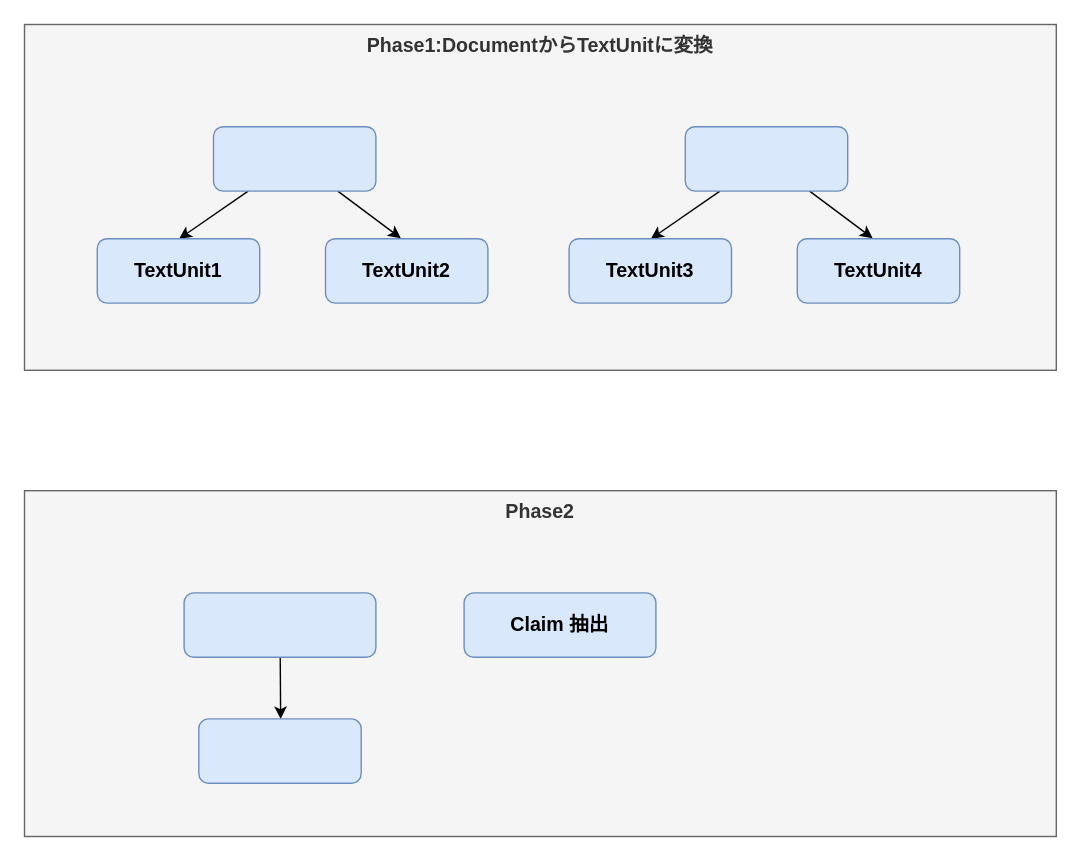
Image size: 1081x861. Some labels were removed from this diagram. Here are the shapes that lost their labels. From the top down, the centre of each, then its label:
At point (294, 158): "Document1".
At point (766, 158): "Document2".
At point (279, 624): "Graph データ 抽出".
At point (279, 750): "Graph 要約".
